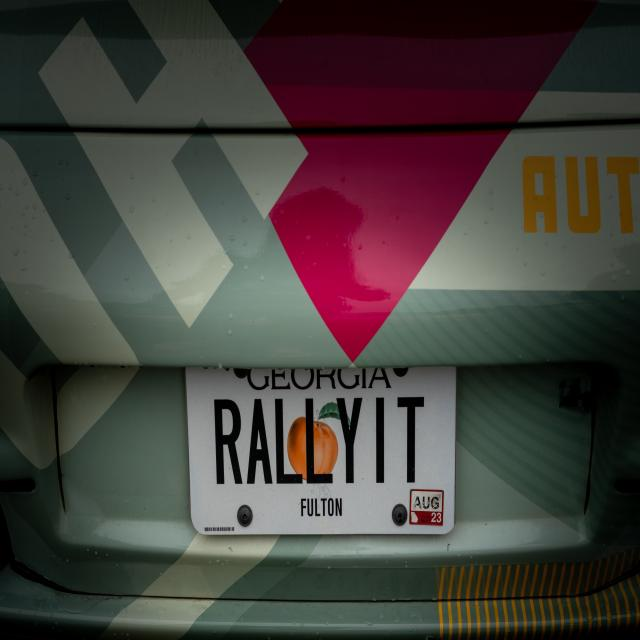Plat: (183, 355, 457, 539)
